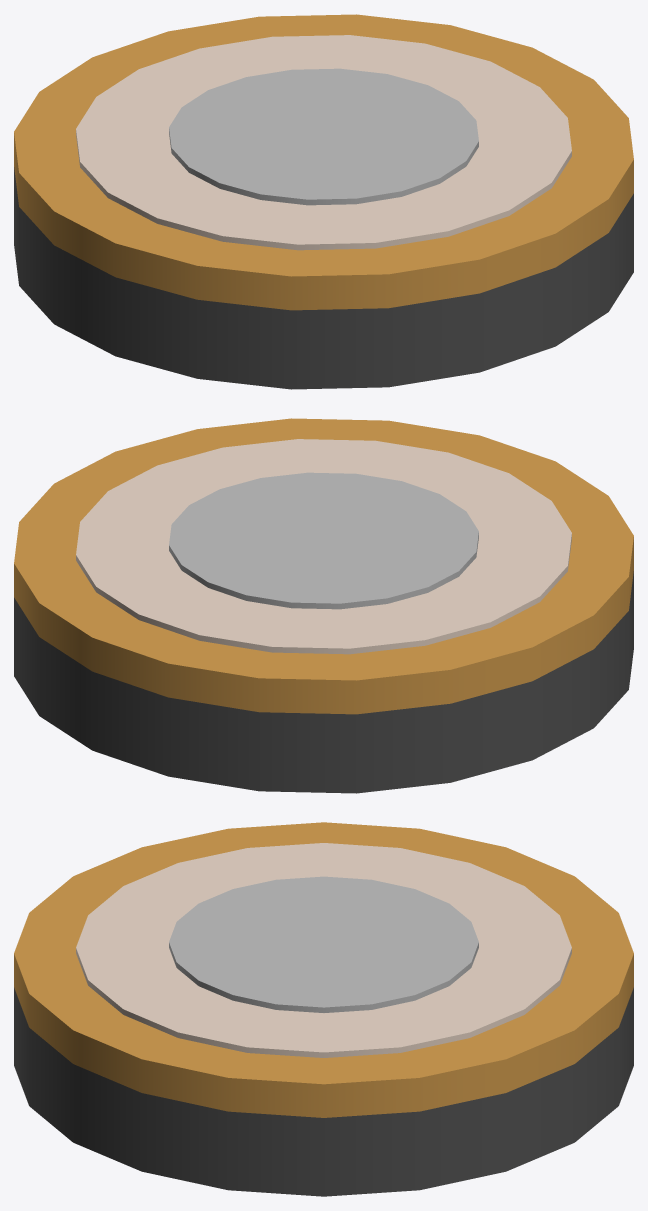
3 renders of one model, top to bottom at view 1: azimuth 30°, elevation 25°; view 2: azimuth 150°, elevation 25°; view 3: azimuth 270°, elevation 25°, orthographic.
Parts seen in each view (by area): view 1: Cylinder__1_; view 2: Cylinder__1_; view 3: Cylinder__1_.
Boxes of the visible parts, box(x1,y1,x2,y2) form: Cylinder__1_: box(14, 14, 633, 389); Cylinder__1_: box(14, 418, 633, 793); Cylinder__1_: box(14, 822, 633, 1196).
Bounding box in the file's own units: 10 × 2.3 × 10.
